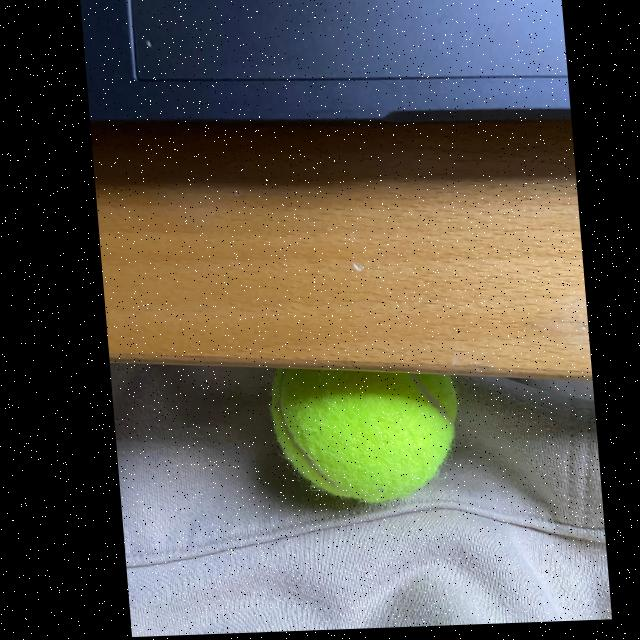Tennisball: (270, 370, 457, 503)
